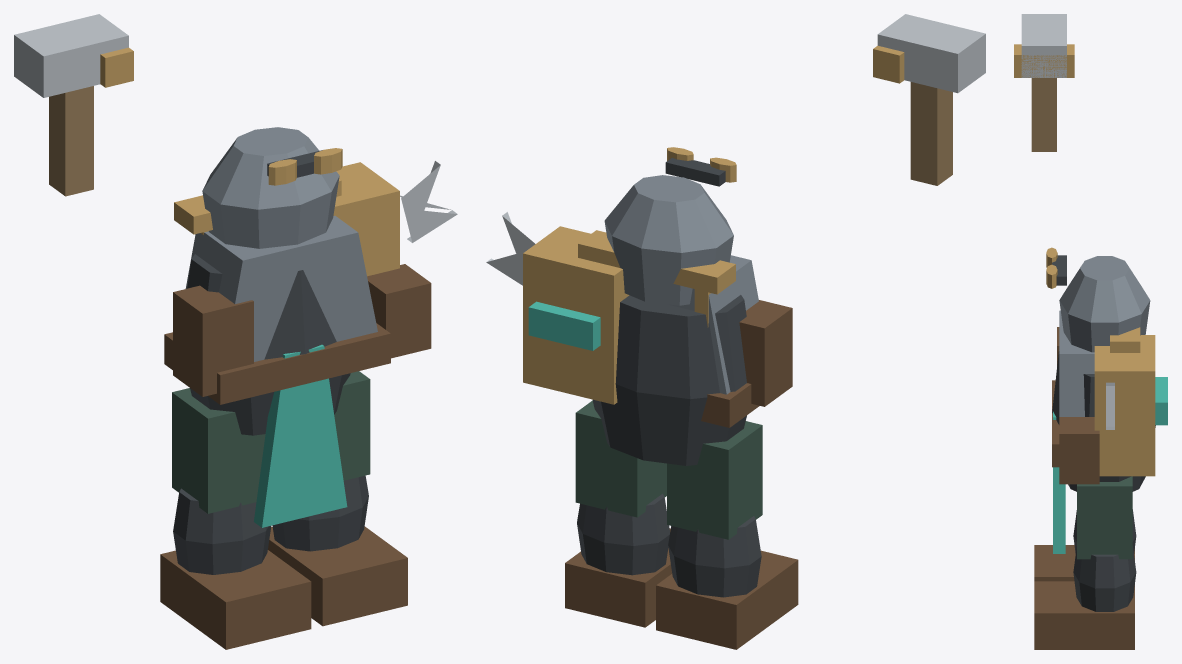
File: unit-engineer.glb
3 renders of one model, left to right at view 1: azimuth 30°, elevation 25°; view 2: azimuth 150°, elevation 25°; view 3: azimuth 270°, elevation 25°, orthographic. The views are drawn at different scales.
Visible parts, largest first — view 1: Body, LegL, LegR, Weapon; view 2: Body, LegL, LegR, Weapon; view 3: Body, LegR, Weapon, LegL.
Boxes of the visible parts, <box> form: Body: <box>164,127,457,527</box>; LegL: <box>160,388,311,649</box>; LegR: <box>268,371,407,626</box>; Weapon: <box>14,14,133,196</box>; Body: <box>486,147,792,465</box>; LegL: <box>656,421,798,649</box>; LegR: <box>565,400,672,627</box>; Weapon: <box>873,14,985,185</box>; Body: <box>1046,247,1167,553</box>; LegR: <box>1034,476,1136,649</box>; Weapon: <box>1014,14,1074,151</box>; LegL: <box>1034,509,1136,581</box>.
Bounding box in the file's own units: 1.65 × 2.17 × 0.61.
